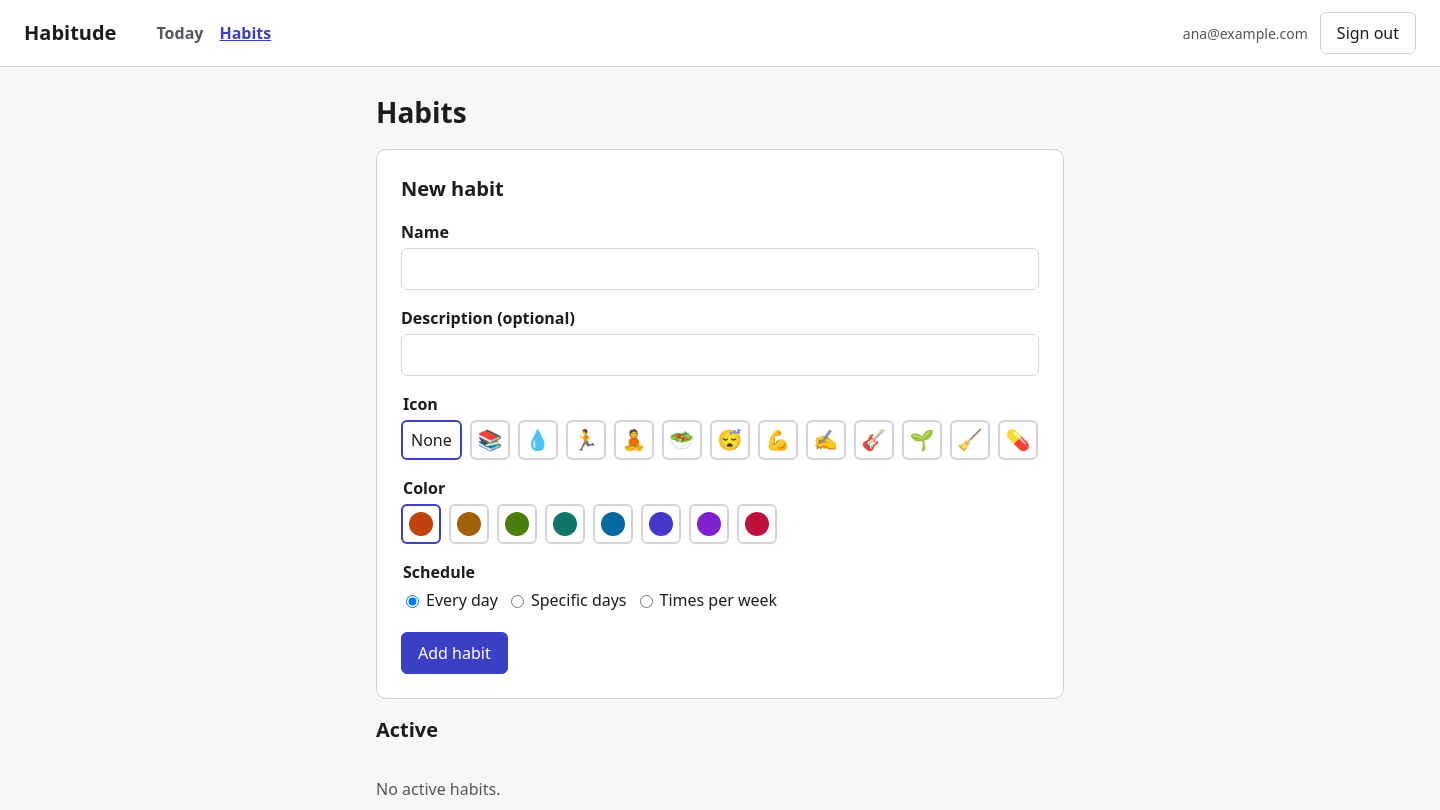
Scenario: spec 005 - Habit schedules › US2: specific days sends the chosen weekdays and the list shows them
This screenshot has width=1440, height=810.
Step 1. Type "Gym" into the field labelled "Name" → (720, 269), box top-left (401, 248), bottom-right (1039, 290)
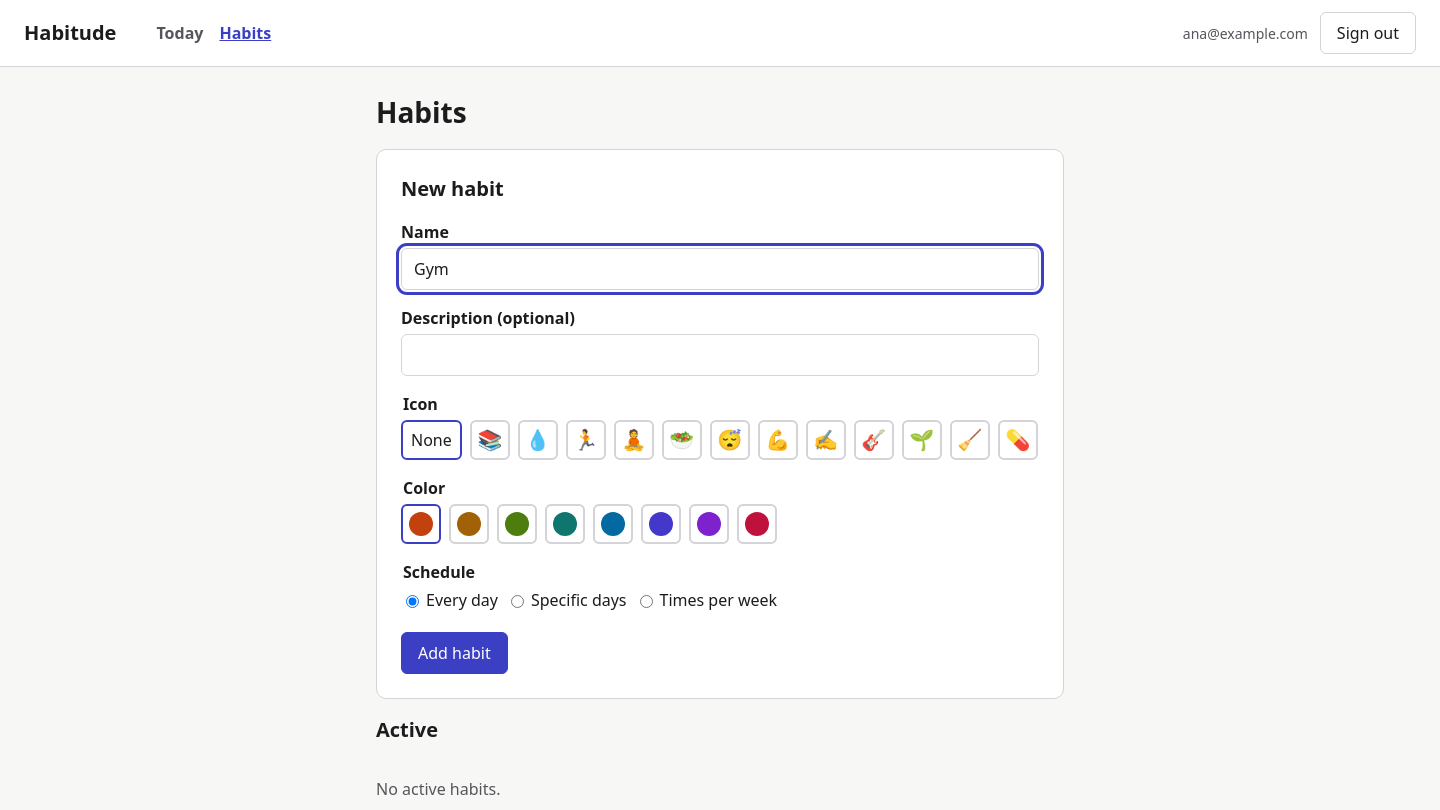
Step 2. Click the radio button labelled "Specific days" → (518, 602), box top-left (511, 595), bottom-right (524, 608)
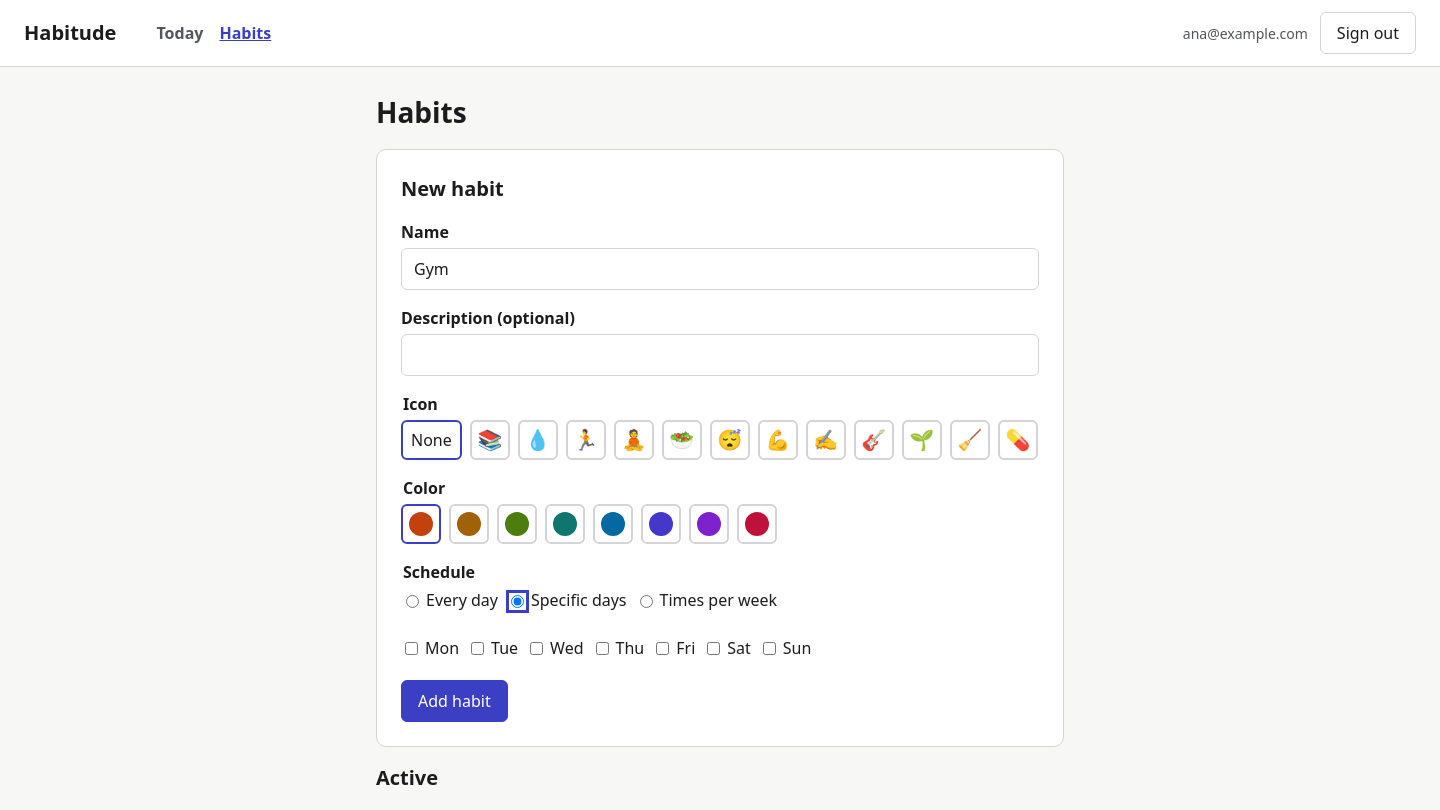
Step 3. Click the checkbox named "Monday" → (412, 648), box top-left (405, 642), bottom-right (418, 654)
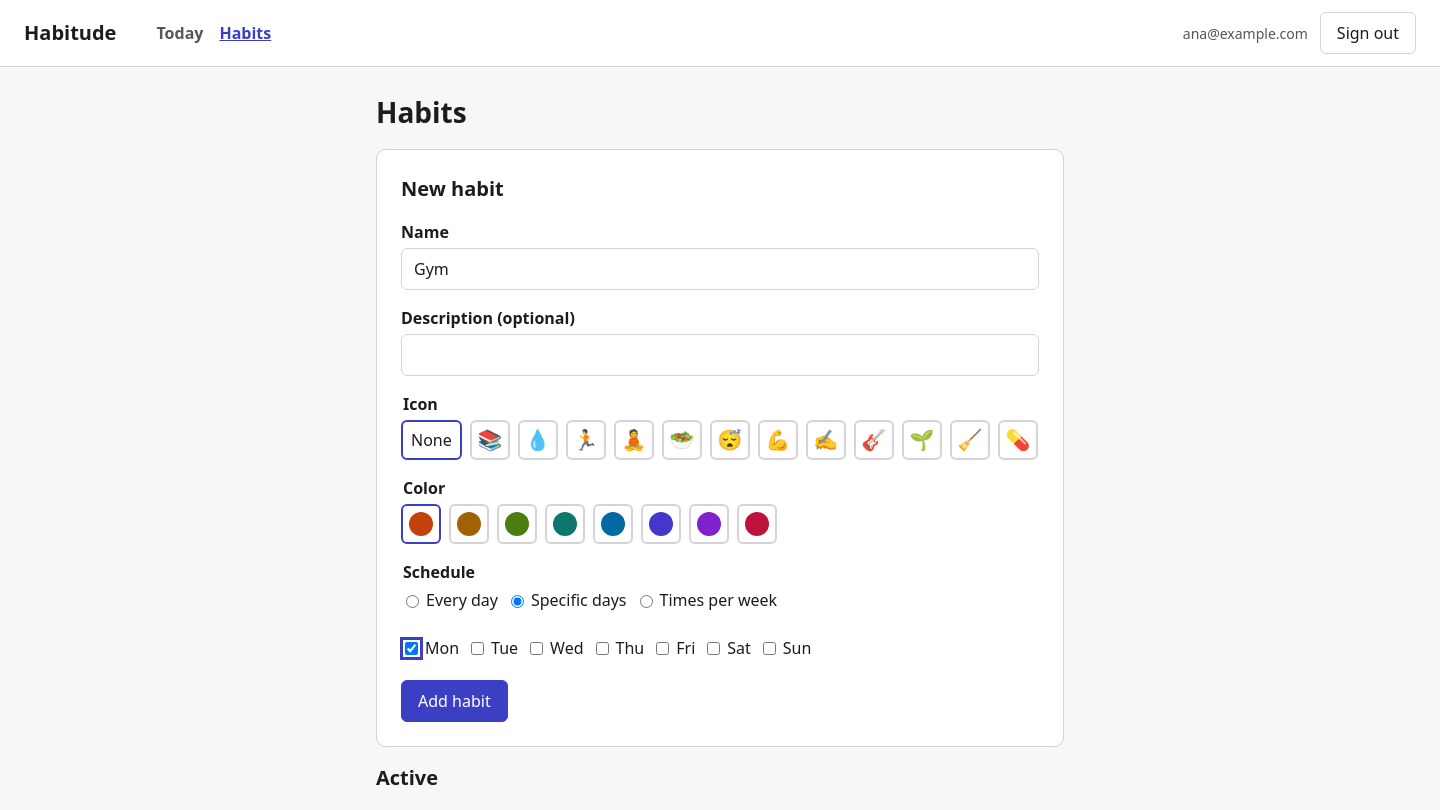
Step 4. Click the checkbox named "Wednesday" → (537, 648), box top-left (530, 642), bottom-right (543, 654)
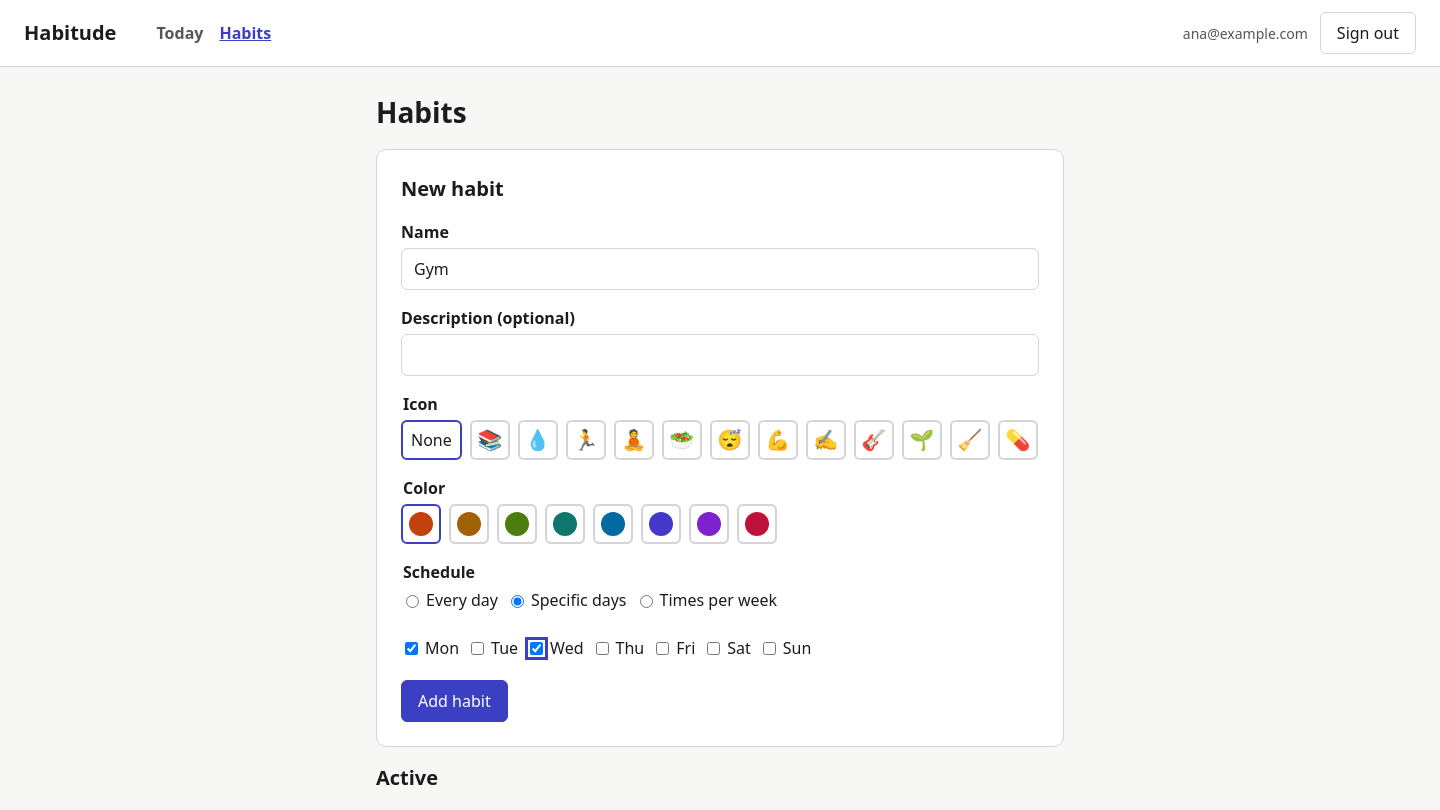
Step 5. Click the checkbox named "Friday" → (663, 648), box top-left (656, 642), bottom-right (669, 654)
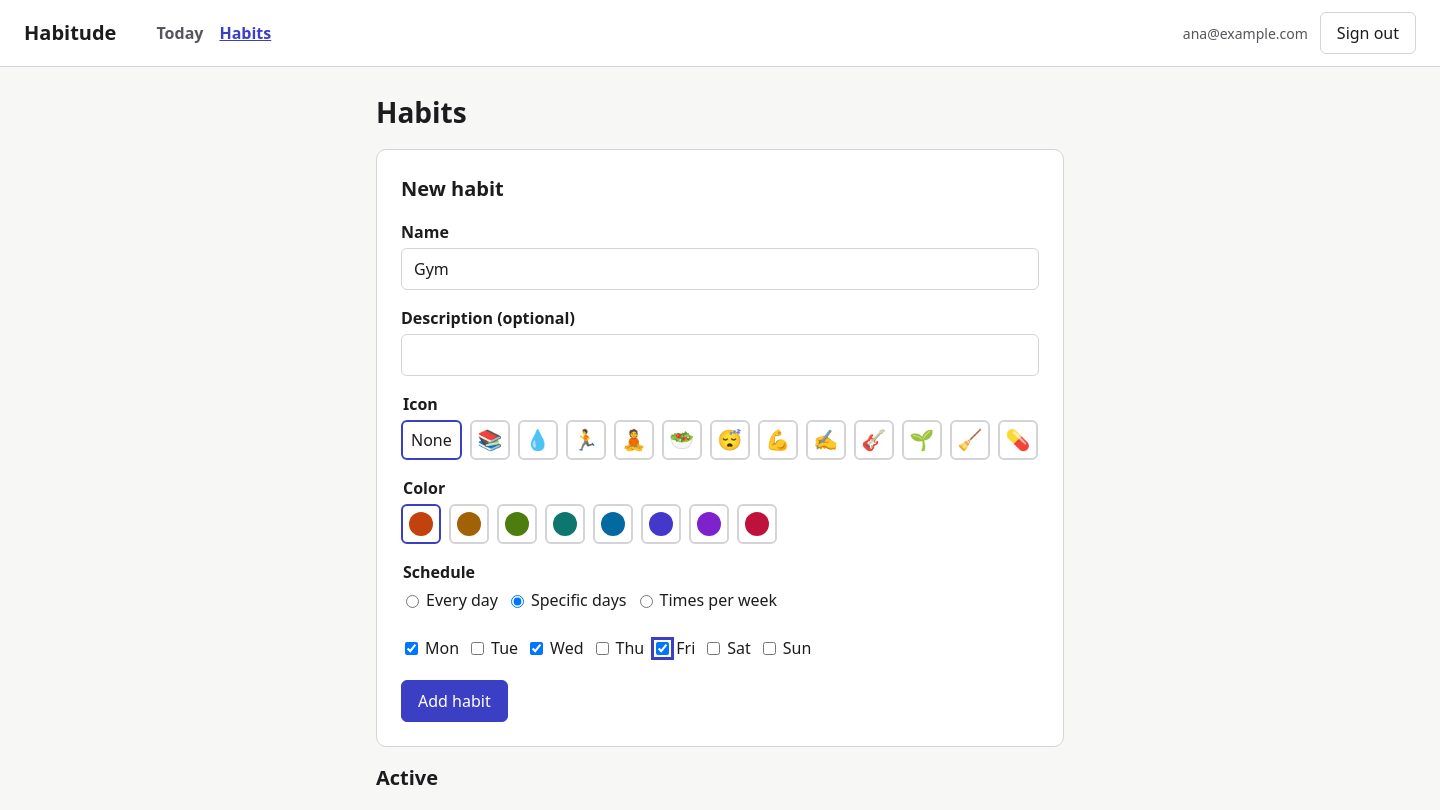
Step 6. Click the button "Add habit" → (454, 701), box top-left (401, 680), bottom-right (508, 722)
(page scrolled)
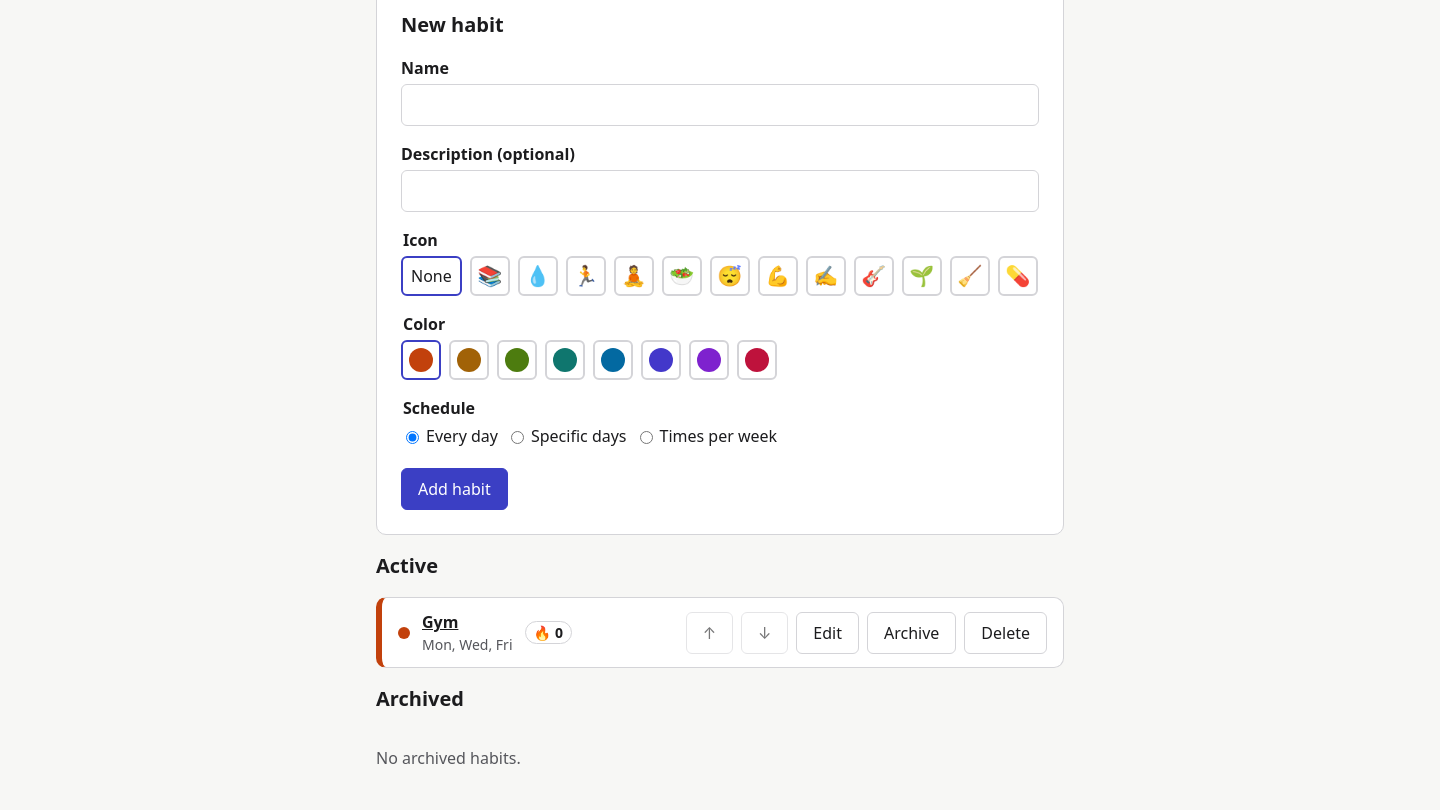
Check: the text "Mon, Wed, Fri" is shown, box top-left (422, 634), bottom-right (512, 655)
